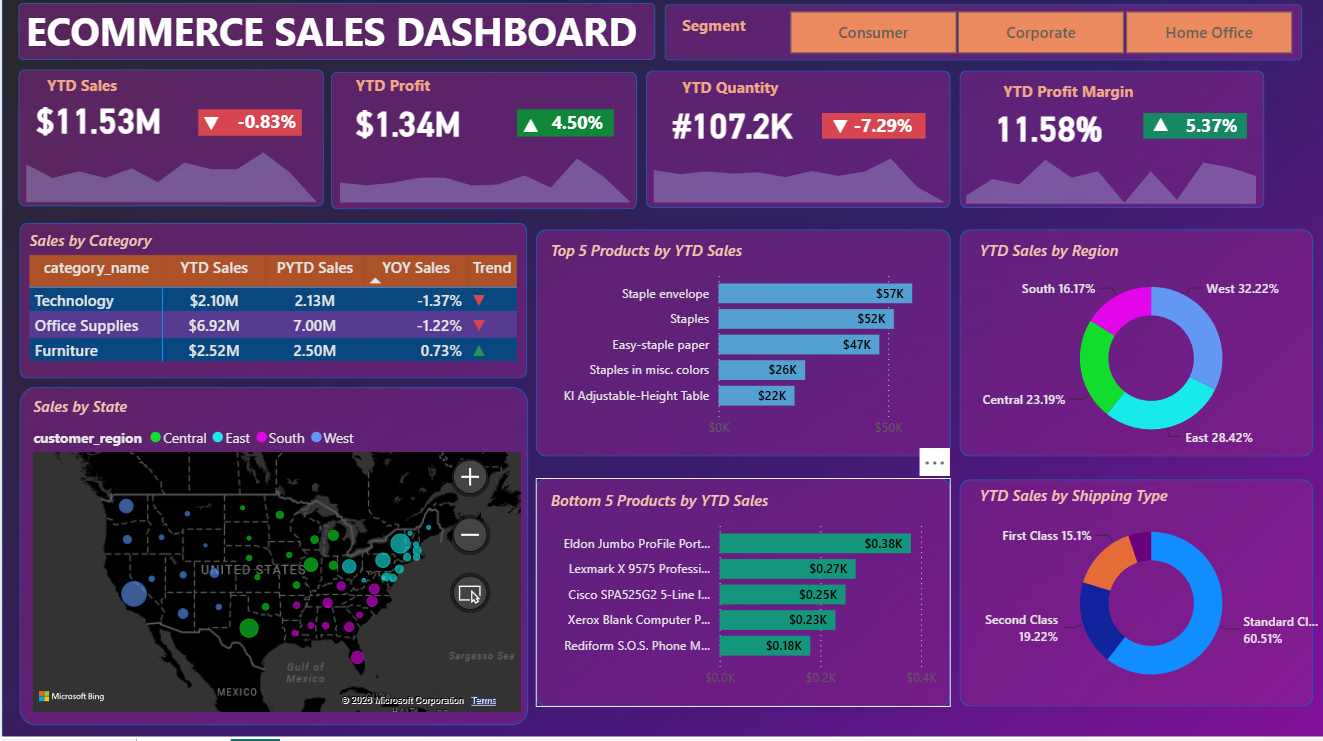

The dashboard page shown, as its layout file describes it:
{"tool":"powerbi","page":{"name":"Page 1","canvas":[1280,720],"ordinal":0},"visuals":[{"type":"shape","box":[924.3,74.3,294.3,132.9],"z":0},{"type":"shape","box":[621.4,74.3,294.3,132.9],"z":1000},{"type":"shape","box":[16.2,10,615,55],"z":2000},{"type":"shape","box":[16.2,73.8,295,132.5],"z":3000},{"type":"textbox","box":[17.5,6.2,615,67.5],"z":4000},{"type":"card","fields":{"Values":["ecommerce_data.YTD Sales"]},"box":[25,95,136.2,52.5],"z":5000},{"type":"shape","box":[189.4,112.2,100.1,25.3],"z":6000},{"type":"areaChart","fields":{"Category":["Calendar.Month"],"Y":["Sum(ecommerce_data.sales_per_order)"]},"box":[8.6,140,310,67.1],"z":7000},{"type":"card","fields":{"Values":["ecommerce_data.YOY Sales"]},"box":[222,112.2,67.6,27.7],"z":8000},{"type":"card","fields":{"Values":["ecommerce_data.Sales trend"]},"box":[189.4,112.2,25.3,30.2],"z":9000},{"type":"textbox","box":[651.4,75.7,110,31.4],"z":10000},{"type":"shape","box":[317.1,75.7,295.7,132.9],"z":11000},{"type":"card","fields":{"Values":["ecommerce_data.YTD Profit"]},"box":[318.6,98.6,147.1,51.4],"z":12000},{"type":"shape","box":[497.5,112.5,93.8,26.2],"z":13000},{"type":"areaChart","fields":{"Category":["Calendar.Month"],"Y":["Sum(ecommerce_data.profit_per_order)"]},"box":[311.4,145.7,310,61.4],"z":14000},{"type":"card","fields":{"Values":["ecommerce_data.YOY profit"]},"box":[520,112.5,71.2,26.2],"z":15000},{"type":"card","fields":{"Values":["ecommerce_data.Profit trend"]},"box":[497.1,114.3,27.1,30],"z":16000},{"type":"textbox","box":[336.2,73.8,91.2,32.5],"z":17000},{"type":"card","fields":{"Values":["ecommerce_data.YTD concatenated Qty"]},"box":[631.4,100,148.6,51.4],"z":18000},{"type":"shape","box":[791.2,116,100,25],"z":19000},{"type":"card","fields":{"Values":["ecommerce_data.YOY qty"]},"box":[816.2,116.2,67.5,27.5],"z":20000},{"type":"card","fields":{"Values":["ecommerce_data.qty trend"]},"box":[791.4,115.7,35.7,30],"z":21000},{"type":"textbox","box":[38.8,73.8,81.2,32.5],"z":22000},{"type":"card","fields":{"Values":["ecommerce_data.YTD profit margin"]},"box":[942.5,102.2,136.2,52.5],"z":23000},{"type":"shape","box":[1101.2,116,100,25],"z":24000},{"type":"textbox","box":[961.4,80,207.1,31.4],"z":25000},{"type":"card","fields":{"Values":["ecommerce_data.YOY profit margin"]},"box":[1134.3,115.7,67.1,28.6],"z":26000},{"type":"card","fields":{"Values":["ecommerce_data.profit margin trend"]},"box":[1101.4,112.9,34.3,30],"z":27000},{"type":"areaChart","fields":{"Category":["Calendar.Month"],"Y":["ecommerce_data.profit margin"]},"box":[915.7,147.1,310,61.4],"z":28000},{"type":"areaChart","fields":{"Category":["Calendar.Month"],"Y":["Sum(ecommerce_data.order_quantity)"]},"box":[614.3,145.7,310,61.4],"z":29000},{"type":"shape","box":[17.1,221.4,490,150],"z":30000},{"type":"pivotTable","title":"Sales by Category","fields":{"Rows":["ecommerce_data.category_name"],"Values":["ecommerce_data.YTD Sales","ecommerce_data.PYTD Sales","ecommerce_data.YOY Sales","ecommerce_data.Sales trend"]},"box":[21.7,228,501.9,137.5],"z":31000},{"type":"shape","box":[16.9,380,491,326.9],"z":32000},{"type":"map","title":"Sales by State","fields":{"Series":["ecommerce_data.customer_region"],"Y":["us_state_long_lat_codes.latitude"],"X":["us_state_long_lat_codes.longitude"],"Size":["ecommerce_data.YTD Sales"]},"box":[25.3,388.5,481.4,310.1],"z":32001},{"type":"shape","box":[515.2,228,400.5,219.6],"z":32002},{"type":"shape","box":[515.2,468.1,400.5,220.8],"z":32004},{"type":"barChart","title":"Top 5 Products by YTD Sales","fields":{"Category":["ecommerce_data.product_name"],"Y":["ecommerce_data.YTD Sales"]},"box":[524.8,237.7,382.4,200.3],"z":32005},{"type":"barChart","title":"Bottom 5 Products by YTD Sales","fields":{"Category":["ecommerce_data.product_name"],"Y":["ecommerce_data.YTD Sales"]},"box":[524.8,479,382.4,200.3],"z":32006},{"type":"shape","box":[924.1,228,341.4,219.6],"z":32007},{"type":"shape","box":[924.1,469.3,341.4,219.6],"z":32008},{"type":"donutChart","title":"YTD Sales by Region","fields":{"Y":["ecommerce_data.YTD Sales"],"Category":["ecommerce_data.customer_region"]},"box":[938.6,237.7,341.4,209.9],"z":32009},{"type":"donutChart","title":"YTD Sales by Shipping Type","fields":{"Y":["ecommerce_data.YTD Sales"],"Category":["ecommerce_data.shipping_type"]},"box":[938.6,474.1,341.4,209.9],"z":32010},{"type":"shape","box":[639.4,10.9,615.3,54.3],"z":32011},{"type":"slicer","fields":{"Values":["ecommerce_data.customer_segment"]},"box":[734.7,10.9,534.5,54.3],"z":32012},{"type":"textbox","box":[651.5,15.7,83.2,42.2],"z":32013}]}

Visuals, with their boxes in screenshot pixels (x1, y1, x2, y2), scaled from the page's 1280x720 canvas onto the 1323x741 screenshot:
shape: {"left": 955, "top": 76, "right": 1260, "bottom": 213}
shape: {"left": 642, "top": 76, "right": 946, "bottom": 213}
shape: {"left": 17, "top": 10, "right": 652, "bottom": 67}
shape: {"left": 17, "top": 76, "right": 322, "bottom": 212}
textbox: {"left": 18, "top": 6, "right": 654, "bottom": 76}
card - ecommerce_data.YTD Sales: {"left": 26, "top": 98, "right": 167, "bottom": 152}
shape: {"left": 196, "top": 115, "right": 299, "bottom": 142}
areaChart - Calendar.Month x Sum(ecommerce_data.sales_per_order): {"left": 9, "top": 144, "right": 329, "bottom": 213}
card - ecommerce_data.YOY Sales: {"left": 229, "top": 115, "right": 299, "bottom": 144}
card - ecommerce_data.Sales trend: {"left": 196, "top": 115, "right": 222, "bottom": 147}
textbox: {"left": 673, "top": 78, "right": 787, "bottom": 110}
shape: {"left": 328, "top": 78, "right": 633, "bottom": 215}
card - ecommerce_data.YTD Profit: {"left": 329, "top": 101, "right": 481, "bottom": 154}
shape: {"left": 514, "top": 116, "right": 611, "bottom": 143}
areaChart - Calendar.Month x Sum(ecommerce_data.profit_per_order): {"left": 322, "top": 150, "right": 642, "bottom": 213}
card - ecommerce_data.YOY profit: {"left": 537, "top": 116, "right": 611, "bottom": 143}
card - ecommerce_data.Profit trend: {"left": 514, "top": 118, "right": 542, "bottom": 149}
textbox: {"left": 347, "top": 76, "right": 442, "bottom": 109}
card - ecommerce_data.YTD concatenated Qty: {"left": 653, "top": 103, "right": 806, "bottom": 156}
shape: {"left": 818, "top": 119, "right": 921, "bottom": 145}
card - ecommerce_data.YOY qty: {"left": 844, "top": 120, "right": 913, "bottom": 148}
card - ecommerce_data.qty trend: {"left": 818, "top": 119, "right": 855, "bottom": 150}
textbox: {"left": 40, "top": 76, "right": 124, "bottom": 109}
card - ecommerce_data.YTD profit margin: {"left": 974, "top": 105, "right": 1115, "bottom": 159}
shape: {"left": 1138, "top": 119, "right": 1242, "bottom": 145}
textbox: {"left": 994, "top": 82, "right": 1208, "bottom": 115}
card - ecommerce_data.YOY profit margin: {"left": 1172, "top": 119, "right": 1242, "bottom": 149}
card - ecommerce_data.profit margin trend: {"left": 1138, "top": 116, "right": 1174, "bottom": 147}
areaChart - Calendar.Month x ecommerce_data.profit margin: {"left": 946, "top": 151, "right": 1267, "bottom": 215}
areaChart - Calendar.Month x Sum(ecommerce_data.order_quantity): {"left": 635, "top": 150, "right": 955, "bottom": 213}
shape: {"left": 18, "top": 228, "right": 524, "bottom": 382}
"Sales by Category" pivotTable: {"left": 22, "top": 235, "right": 541, "bottom": 376}
shape: {"left": 17, "top": 391, "right": 525, "bottom": 728}
"Sales by State" map: {"left": 26, "top": 400, "right": 524, "bottom": 719}
shape: {"left": 533, "top": 235, "right": 946, "bottom": 461}
shape: {"left": 533, "top": 482, "right": 946, "bottom": 709}
"Top 5 Products by YTD Sales" barChart: {"left": 542, "top": 245, "right": 938, "bottom": 451}
"Bottom 5 Products by YTD Sales" barChart: {"left": 542, "top": 493, "right": 938, "bottom": 699}
shape: {"left": 955, "top": 235, "right": 1308, "bottom": 461}
shape: {"left": 955, "top": 483, "right": 1308, "bottom": 709}
"YTD Sales by Region" donutChart: {"left": 970, "top": 245, "right": 1322, "bottom": 461}
"YTD Sales by Shipping Type" donutChart: {"left": 970, "top": 488, "right": 1322, "bottom": 704}
shape: {"left": 661, "top": 11, "right": 1297, "bottom": 67}
slicer - ecommerce_data.customer_segment: {"left": 759, "top": 11, "right": 1312, "bottom": 67}
textbox: {"left": 673, "top": 16, "right": 759, "bottom": 60}
